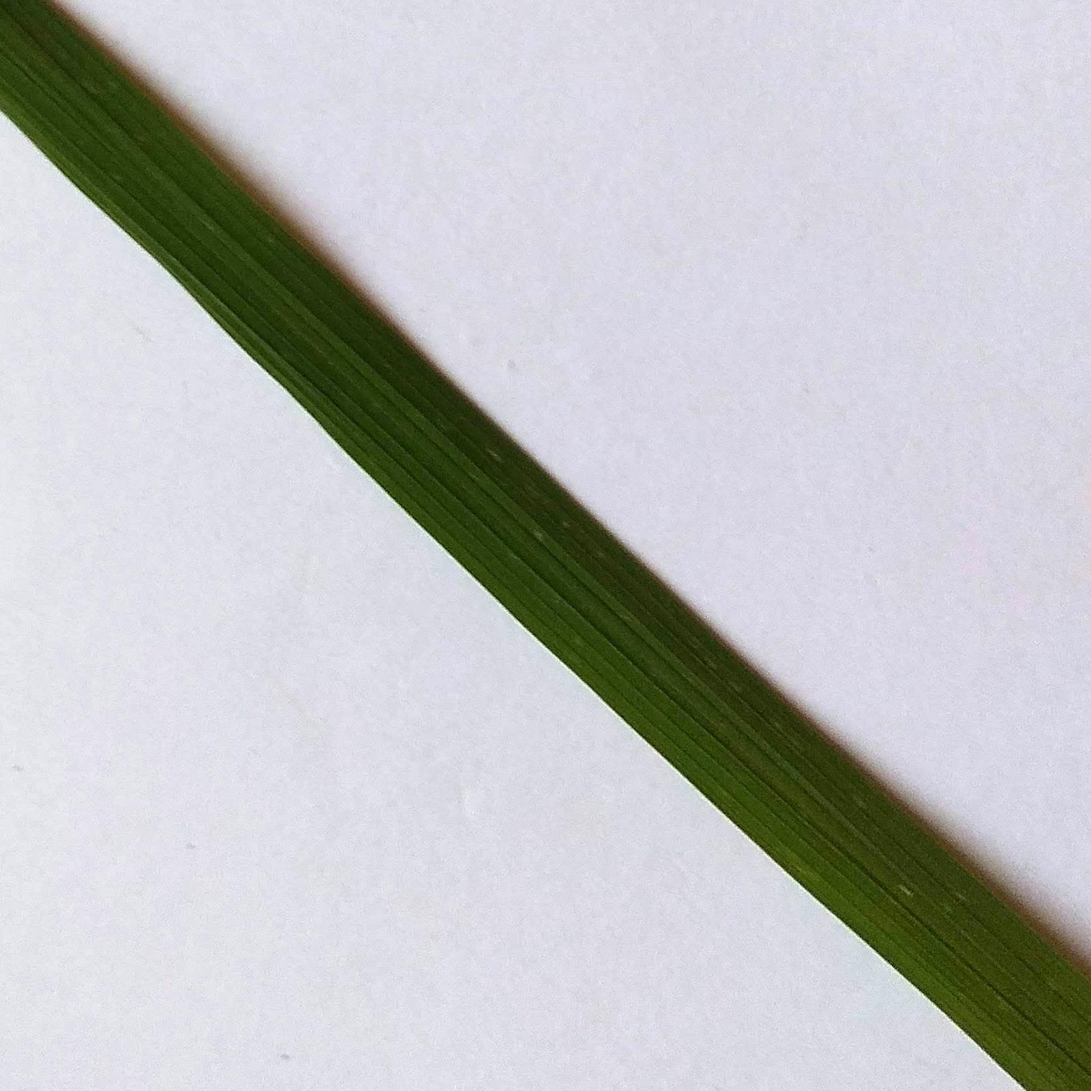Healthy: (1, 1, 1089, 1089)
